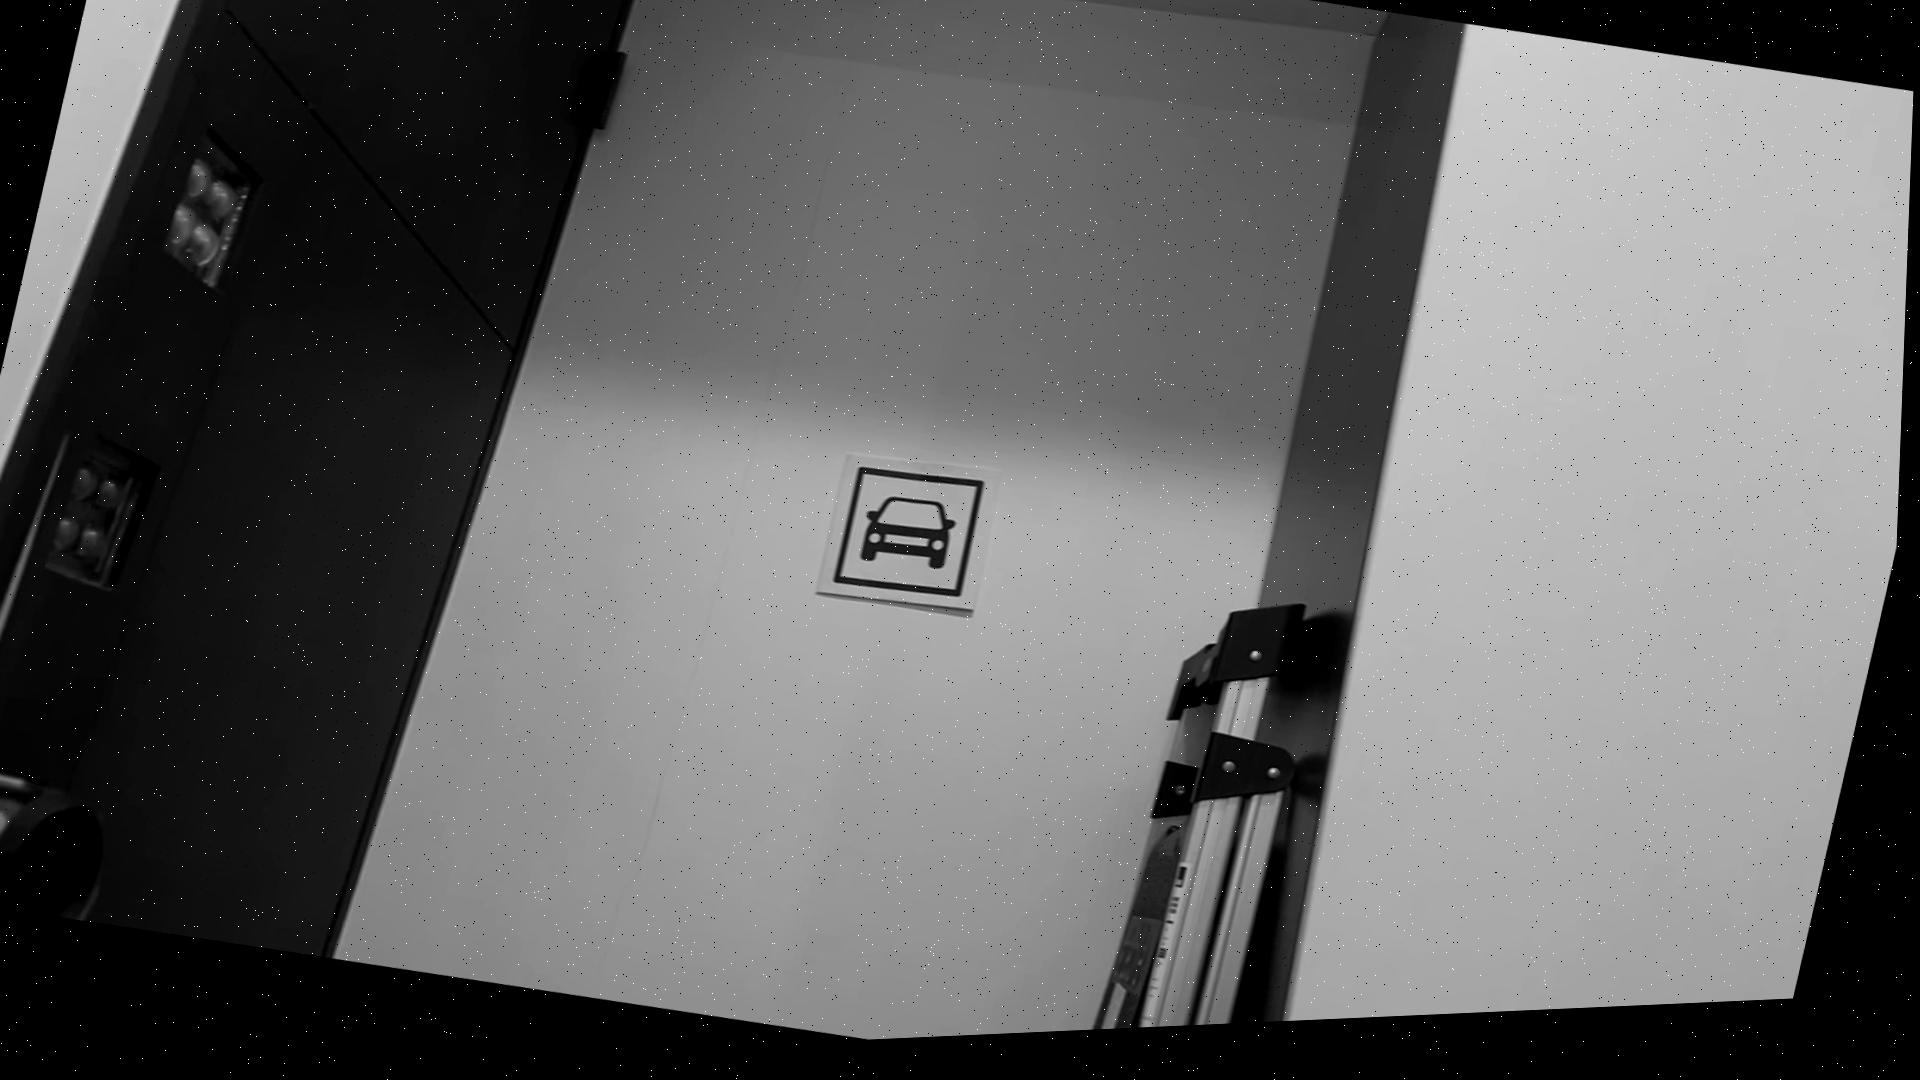car_img: (833, 463, 993, 617)
